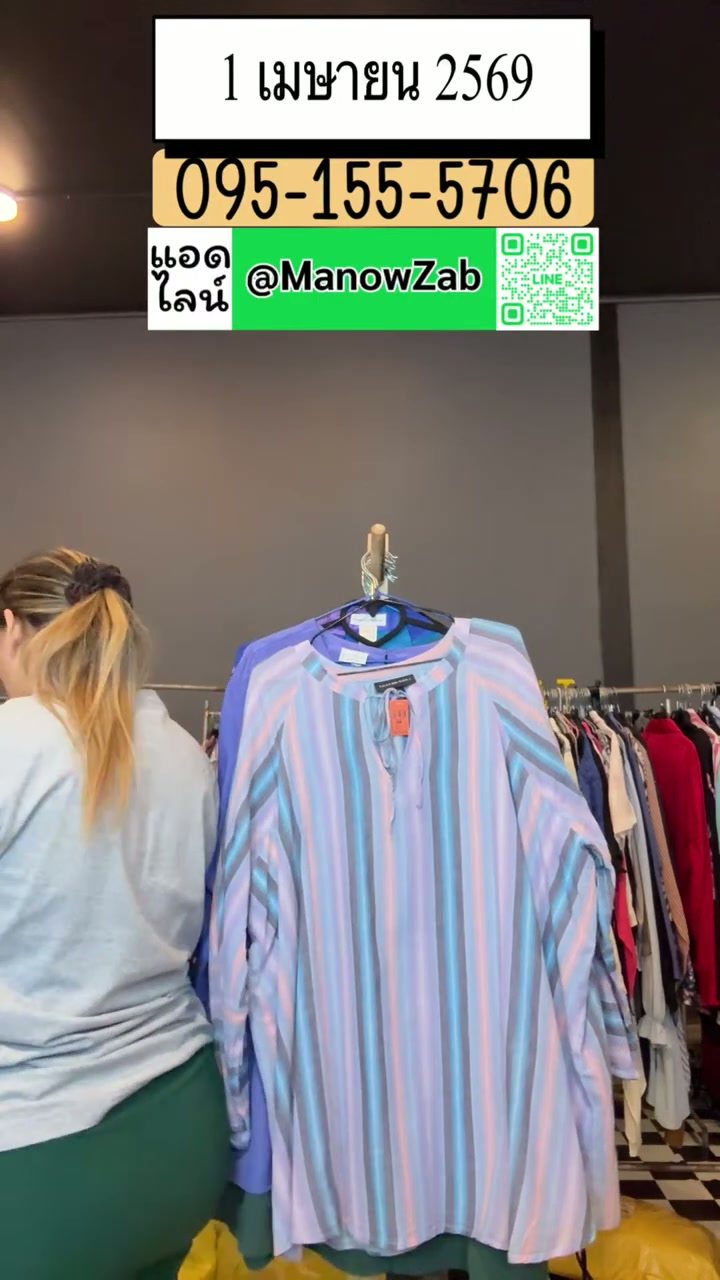display_shirt: (211, 618, 635, 1264)
